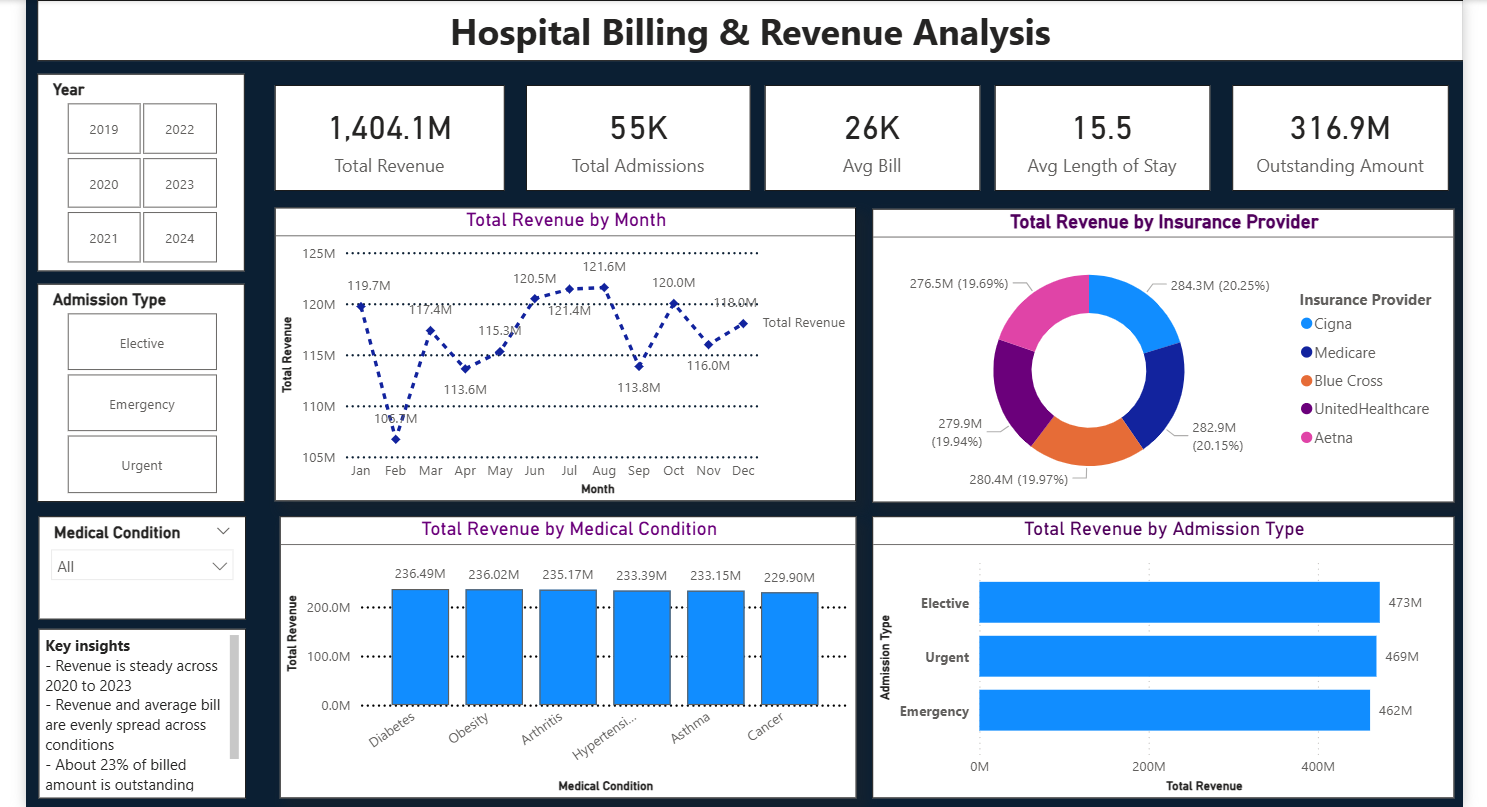

The page's visual inventory and layout, read from the dashboard file:
{"tool":"powerbi","page":{"name":"Overview","canvas":[1280,720],"ordinal":0},"visuals":[{"type":"textbox","box":[9.7,0,1270.4,54.3],"z":0},{"type":"slicer","fields":{"Values":["DimDate.Year"]},"box":[9.7,65.1,184.6,176.1],"z":1000},{"type":"slicer","fields":{"Values":["DimAdmissionType.Admission Type"]},"box":[9.7,252.1,184.6,194.2],"z":2000},{"type":"slicer","fields":{"Values":["DimCondition.Medical Condition"]},"box":[10.9,459.7,184.6,91.7],"z":3000},{"type":"lineChart","fields":{"Y":["Measures (2).Total Revenue"],"Category":["DimDate.Month"]},"box":[222,184.6,517.6,261.8],"z":3001},{"type":"clusteredColumnChart","fields":{"Category":["DimCondition.Medical Condition"],"Y":["Measures (2).Total Revenue"]},"box":[225.6,459.7,513.9,250.9],"z":3002},{"type":"donutChart","fields":{"Category":["DimInsurer.Insurance Provider"],"Y":["Measures (2).Total Revenue"]},"box":[754,185.8,518.8,261.8],"z":3003},{"type":"card","fields":{"Values":["Measures (2).Total Revenue"]},"box":[222,76,205.1,94.1],"z":3004},{"type":"card","fields":{"Values":["Measures (2).Total Admissions"]},"box":[445.2,76,200.3,94.1],"z":3005},{"type":"card","fields":{"Values":["Measures (2).Avg Bill"]},"box":[657.5,76,191.8,94.1],"z":3006},{"type":"card","fields":{"Values":["Measures (2).Avg Length of Stay"]},"box":[862.6,76,191.8,94.1],"z":3007},{"type":"card","fields":{"Values":["Measures (2).Outstanding Amount"]},"box":[1073.7,76,193,94.1],"z":3008},{"type":"barChart","fields":{"Category":["DimAdmissionType.Admission Type"],"Y":["Measures (2).Total Revenue"]},"box":[748,459.7,518.8,250.9],"z":3009},{"type":"textbox","box":[10.9,559.8,184.6,150.8],"z":3010}]}

Visuals, with their boxes in screenshot pixels (x1, y1, x2, y2):
textbox: (23, 0, 1476, 54)
slicer - DimDate.Year: (23, 67, 234, 268)
slicer - DimAdmissionType.Admission Type: (23, 281, 234, 503)
slicer - DimCondition.Medical Condition: (24, 518, 235, 623)
lineChart - Measures (2).Total Revenue x DimDate.Month: (266, 203, 858, 503)
clusteredColumnChart - DimCondition.Medical Condition x Measures (2).Total Revenue: (270, 518, 857, 805)
donutChart - DimInsurer.Insurance Provider x Measures (2).Total Revenue: (874, 205, 1467, 504)
card - Measures (2).Total Revenue: (266, 79, 500, 187)
card - Measures (2).Total Admissions: (521, 79, 750, 187)
card - Measures (2).Avg Bill: (764, 79, 983, 187)
card - Measures (2).Avg Length of Stay: (998, 79, 1218, 187)
card - Measures (2).Outstanding Amount: (1240, 79, 1460, 187)
barChart - DimAdmissionType.Admission Type x Measures (2).Total Revenue: (867, 518, 1461, 805)
textbox: (24, 633, 235, 805)
